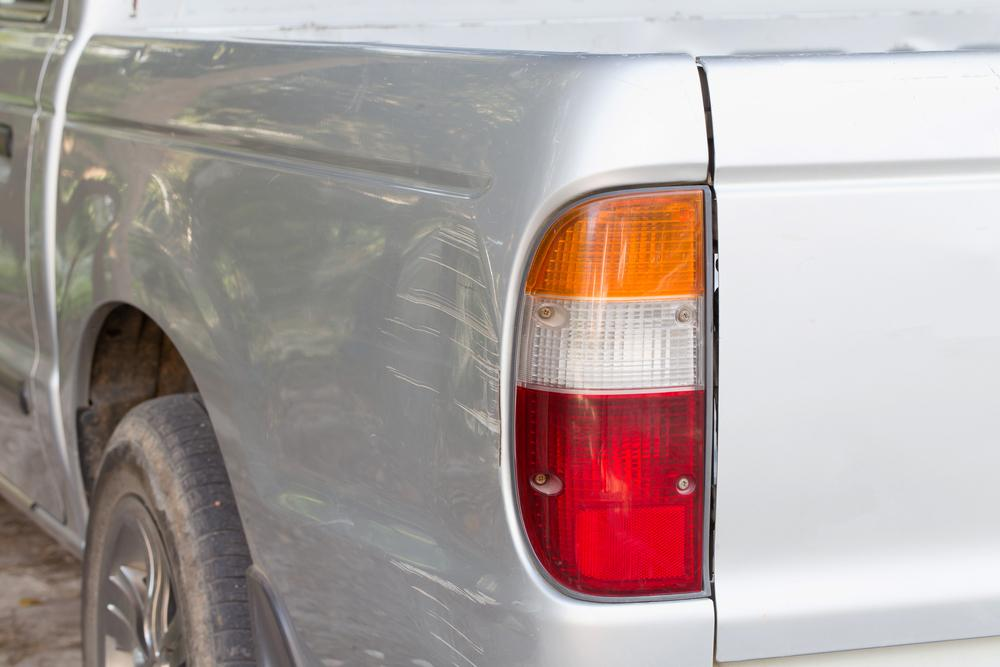dent: (391, 220, 537, 667)
